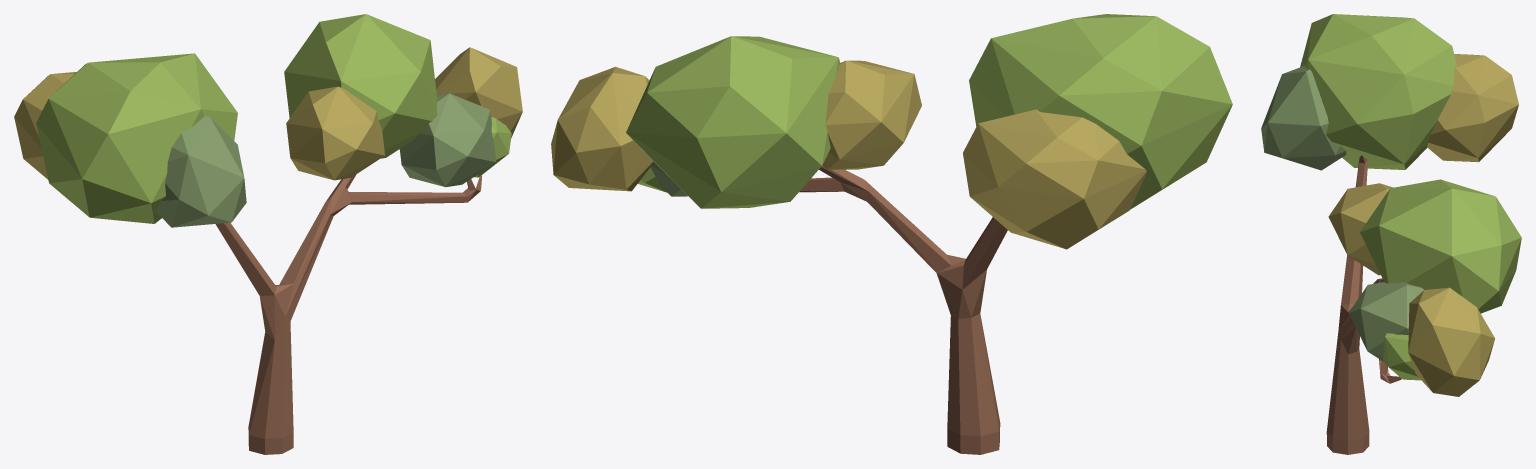
The model's file is arbol3.fbx.
3 views of the same model, side by side, from view 1: azimuth 30°, elevation 25°; view 2: azimuth 150°, elevation 25°; view 3: azimuth 270°, elevation 25° (orthographic). The views are drawn at different scales.
Parts seen in each view (by area): view 1: Cube; view 2: Cube; view 3: Cube.
Part boxes in pixels (x1,y1,x2,y2): Cube: [14, 14, 522, 454]; Cube: [551, 14, 1232, 454]; Cube: [1261, 14, 1521, 454].
Bounding box in the file's own units: 1004 × 749 × 483.
